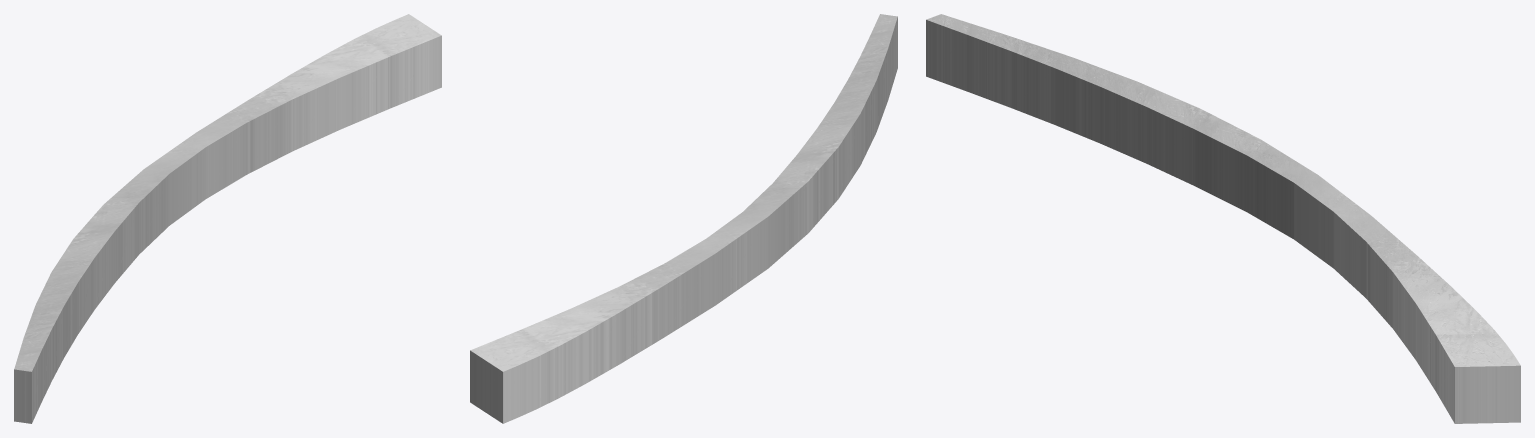
Rendered from blanc3.FBX.
3 renders of one model, left to right at view 1: azimuth 30°, elevation 25°; view 2: azimuth 210°, elevation 25°; view 3: azimuth 270°, elevation 25°, orthographic. The views are drawn at different scales.
Visible parts, largest first — view 1: Ligne040; view 2: Ligne040; view 3: Ligne040.
Part boxes in pixels (left/top/right/bottom): Ligne040: left=14, top=14, right=441, bottom=423; Ligne040: left=470, top=14, right=897, bottom=423; Ligne040: left=926, top=14, right=1520, bottom=423.
Bounding box in the file's own units: 22.01 × 1.65 × 15.67.
1 material, 1 textured.
